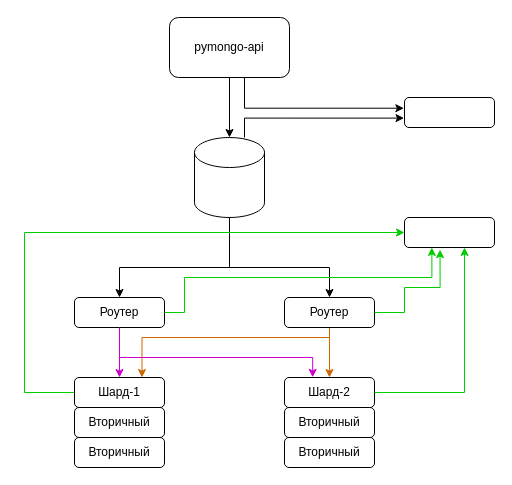
Image size: 512x485. Some labels were removed from this diagram. Here are the shapes that lost their labels. From the top down, the box of each, then its label:
(404, 96, 494, 128): Кэш
(194, 136, 264, 218): MongoDB Driver
(404, 216, 494, 248): Конфигурация
